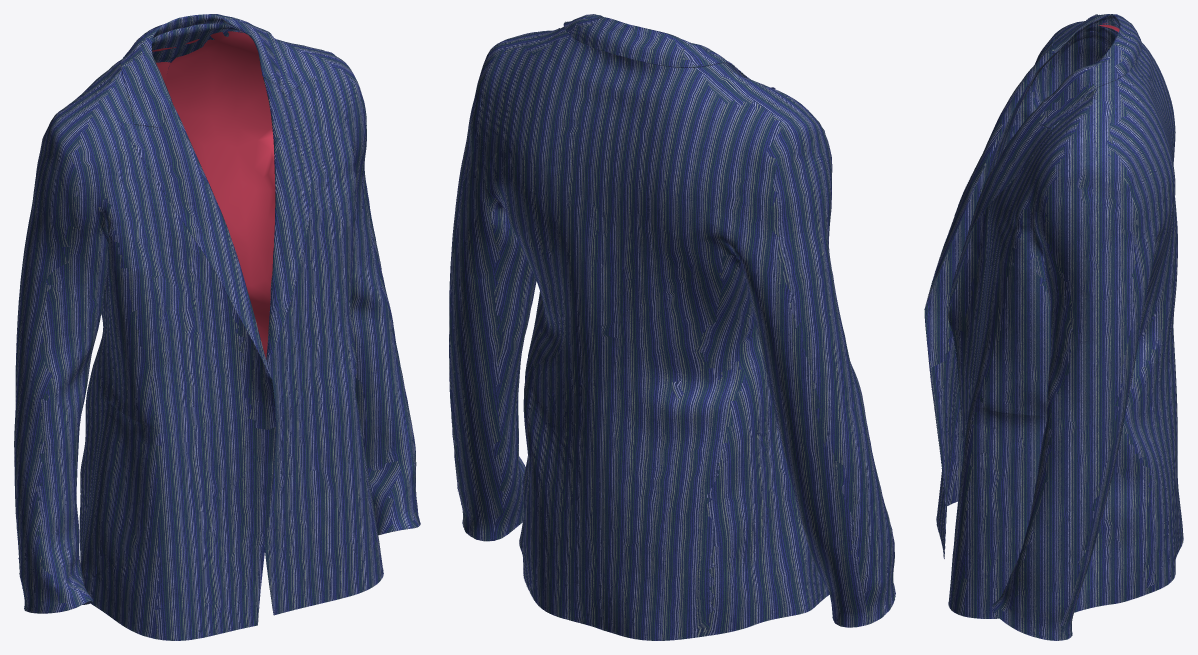
The model's file is blazer_web.glb.
3 renders of one model, left to right at view 1: azimuth 30°, elevation 25°; view 2: azimuth 150°, elevation 25°; view 3: azimuth 270°, elevation 25°, orthographic. The views are drawn at different scales.
Visible parts, largest first — view 1: body, left_sleeve, lining, right_sleeve, collar; view 2: body, left_sleeve, right_sleeve, collar; view 3: body, right_sleeve, collar, left_sleeve.
Boxes of the visible parts, x1,y1,x2,y2 form: body: (48, 23, 383, 640); left_sleeve: (14, 122, 108, 613); lining: (152, 31, 275, 359); right_sleeve: (343, 61, 420, 535); collar: (121, 14, 302, 127); body: (479, 26, 829, 640); left_sleeve: (734, 119, 895, 627); right_sleeve: (449, 45, 536, 541); collar: (563, 14, 750, 79); body: (924, 14, 1183, 618); right_sleeve: (992, 159, 1155, 640); collar: (1040, 14, 1141, 129); left_sleeve: (1048, 38, 1108, 96).
Bounding box in the file's own units: 59.58 × 79.71 × 34.63.
Materials: 2 (1 with a texture image).
